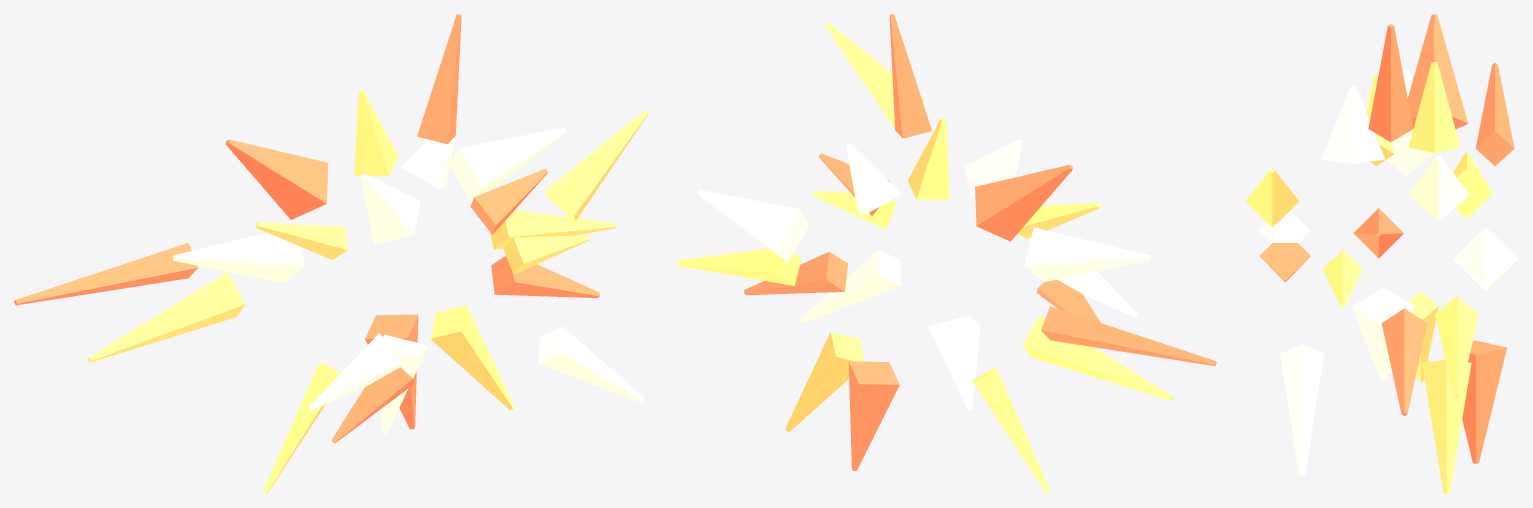
File: supernova.glb
3 renders of one model, left to right at view 1: azimuth 30°, elevation 25°; view 2: azimuth 150°, elevation 25°; view 3: azimuth 270°, elevation 25°, orthographic. The views are drawn at different scales.
Visible parts, largest first — view 1: Supernova dimensional effect.001; view 2: Supernova dimensional effect.001; view 3: Supernova dimensional effect.001.
Part boxes in pixels (x1,y1,x2,y2): Supernova dimensional effect.001: (14, 14, 648, 493); Supernova dimensional effect.001: (677, 14, 1216, 493); Supernova dimensional effect.001: (1245, 14, 1518, 493).
Bounding box in the file's own units: 1.31 × 0.9665 × 0.5411.
